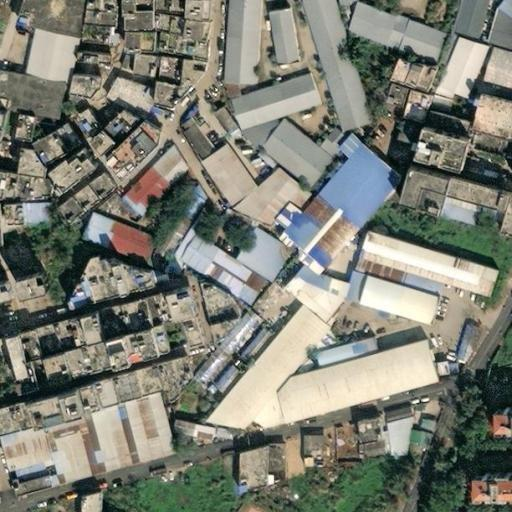building: (209, 304, 323, 432), (270, 340, 432, 424), (291, 0, 365, 133), (355, 232, 491, 297), (267, 192, 355, 277), (313, 143, 396, 227), (60, 254, 158, 310), (395, 163, 498, 216), (171, 243, 254, 308), (74, 213, 167, 270), (221, 71, 312, 128), (222, 168, 306, 225), (253, 121, 323, 188), (187, 308, 250, 382), (182, 234, 261, 292), (112, 148, 179, 216), (354, 275, 438, 326), (278, 264, 344, 325), (190, 141, 249, 206), (102, 124, 162, 185), (214, 0, 252, 85), (226, 227, 282, 282), (128, 392, 173, 460), (430, 37, 479, 99), (340, 2, 401, 51), (16, 28, 70, 82), (99, 403, 142, 468), (153, 62, 206, 111), (15, 0, 82, 36), (28, 387, 88, 427), (411, 126, 465, 169), (389, 20, 438, 65), (464, 94, 512, 139), (54, 430, 93, 483), (309, 336, 370, 369), (99, 76, 148, 117), (141, 200, 184, 245), (164, 416, 213, 452), (38, 423, 66, 486), (259, 9, 289, 66), (81, 424, 114, 473), (476, 47, 512, 90), (0, 195, 51, 224), (451, 315, 480, 361), (32, 320, 71, 354), (479, 16, 512, 55), (231, 118, 273, 148), (8, 460, 53, 488), (232, 445, 259, 491), (231, 326, 264, 363), (46, 158, 80, 193), (351, 259, 398, 284), (85, 309, 112, 352), (81, 380, 115, 414), (1, 333, 27, 377), (126, 328, 155, 367), (402, 63, 436, 96), (64, 146, 96, 180), (119, 298, 151, 332), (68, 346, 100, 380), (174, 122, 204, 158), (398, 88, 428, 123), (166, 284, 195, 319), (46, 352, 75, 386), (381, 407, 405, 448), (472, 474, 512, 498), (109, 374, 139, 406), (68, 312, 93, 350), (395, 272, 435, 295), (110, 332, 134, 370), (27, 134, 55, 166), (205, 364, 234, 394), (84, 0, 115, 28), (40, 127, 67, 159), (85, 128, 114, 157), (339, 270, 363, 305), (7, 147, 35, 177), (16, 329, 40, 364), (10, 271, 42, 296), (144, 293, 168, 326), (102, 304, 126, 337), (110, 109, 139, 136), (51, 121, 76, 151), (66, 185, 93, 211), (84, 173, 110, 200), (4, 112, 26, 143), (331, 133, 356, 158), (199, 408, 231, 427), (70, 107, 93, 133), (60, 114, 83, 140), (156, 57, 178, 84), (193, 295, 224, 314), (99, 119, 123, 143), (199, 309, 224, 332), (234, 496, 272, 511), (308, 136, 331, 160), (124, 53, 148, 76), (133, 370, 156, 394), (13, 403, 32, 432), (66, 77, 92, 98), (489, 0, 512, 23), (173, 190, 196, 213), (54, 198, 77, 221), (389, 61, 410, 86), (121, 10, 151, 27), (294, 438, 316, 460), (501, 197, 512, 238), (157, 16, 182, 34), (12, 372, 35, 391), (493, 407, 512, 429), (179, 315, 196, 339), (190, 21, 210, 41), (166, 340, 191, 356), (325, 429, 337, 461), (272, 230, 291, 249), (119, 30, 139, 48), (158, 34, 175, 55), (402, 411, 417, 434), (74, 53, 106, 63), (197, 132, 214, 150), (157, 0, 179, 13), (73, 498, 92, 512), (147, 34, 159, 54), (386, 314, 407, 325), (28, 117, 47, 129), (248, 165, 263, 180), (415, 412, 429, 428), (102, 174, 116, 189), (112, 51, 124, 68), (417, 400, 427, 413), (371, 310, 384, 319), (401, 432, 411, 443), (271, 309, 281, 318)
